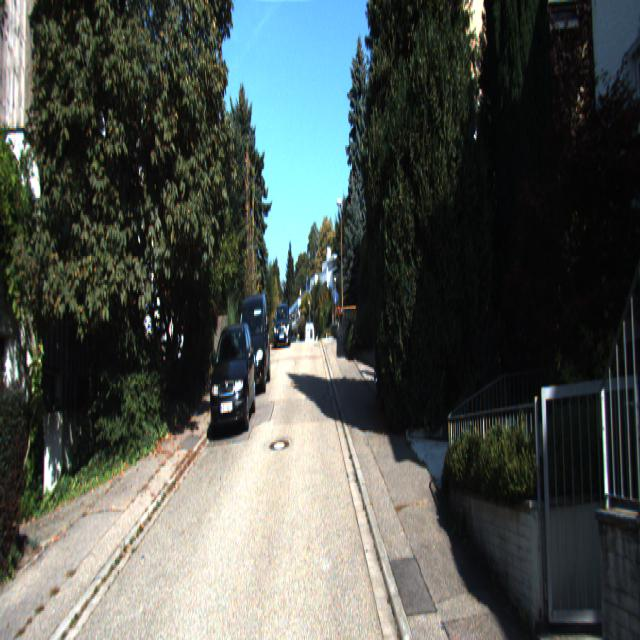Car: (210, 320, 256, 434), (236, 290, 272, 394), (273, 303, 291, 349)
